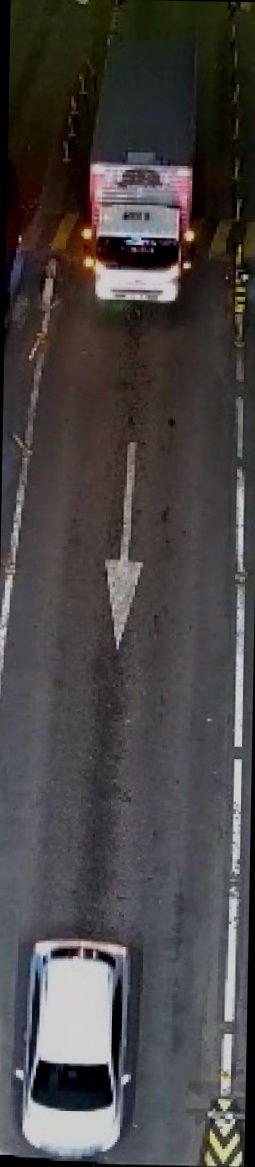car: (7, 924, 143, 1158)
truck: (66, 25, 216, 320)
